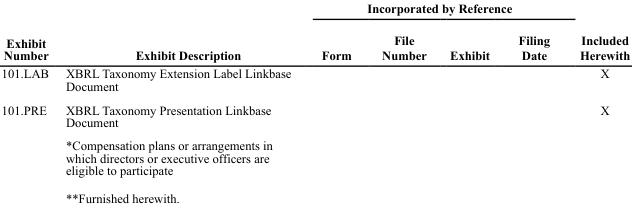table: (0, 1, 629, 204)
table column: (56, 1, 305, 204), (365, 1, 437, 204), (437, 1, 503, 204), (564, 1, 629, 204), (503, 1, 564, 204), (305, 1, 365, 204), (0, 1, 56, 204)
table column header: (0, 1, 629, 63)
table row: (0, 133, 629, 183), (0, 24, 629, 63), (0, 97, 629, 133), (0, 63, 629, 97), (0, 1, 629, 24), (0, 183, 629, 204)
table spanning cell: (56, 1, 305, 63), (0, 97, 56, 204), (305, 1, 564, 24), (564, 1, 629, 63), (0, 1, 56, 63)
